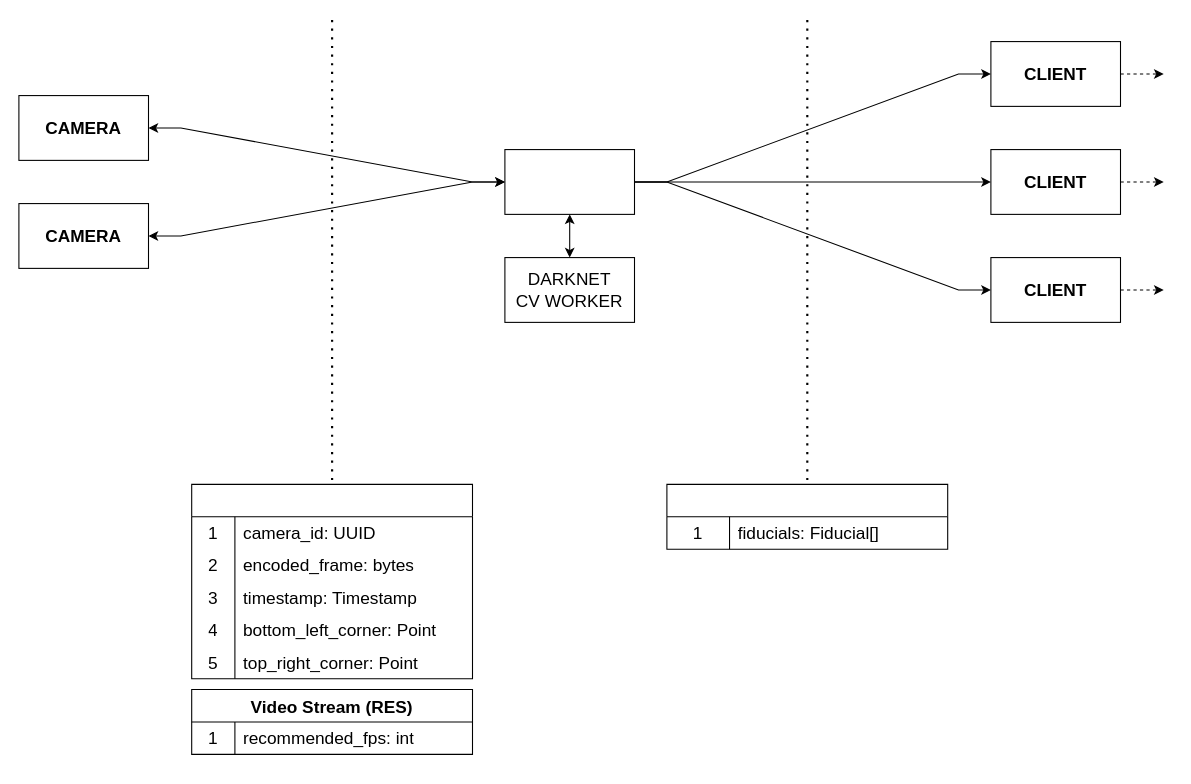
The diagram is 1191 pixels wide and 784 high, and some of its shapes have lost their labels. The box of each missing label's shape, as (x1, y1, x2, y2) in pixels:
Location Stream (PUB/SUB): (666, 483, 948, 549)
SERVER: (504, 148, 634, 214)
Video Stream (REQ): (191, 483, 473, 679)
